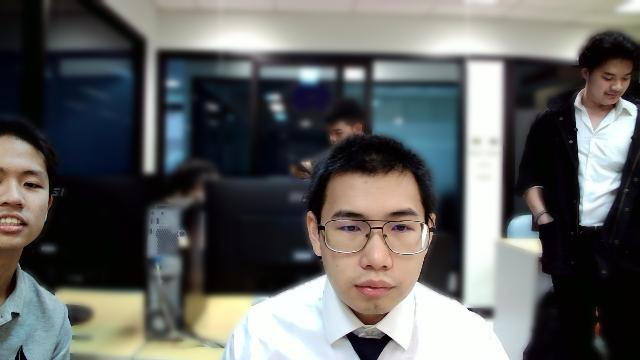fokus: (317, 147, 431, 312)
